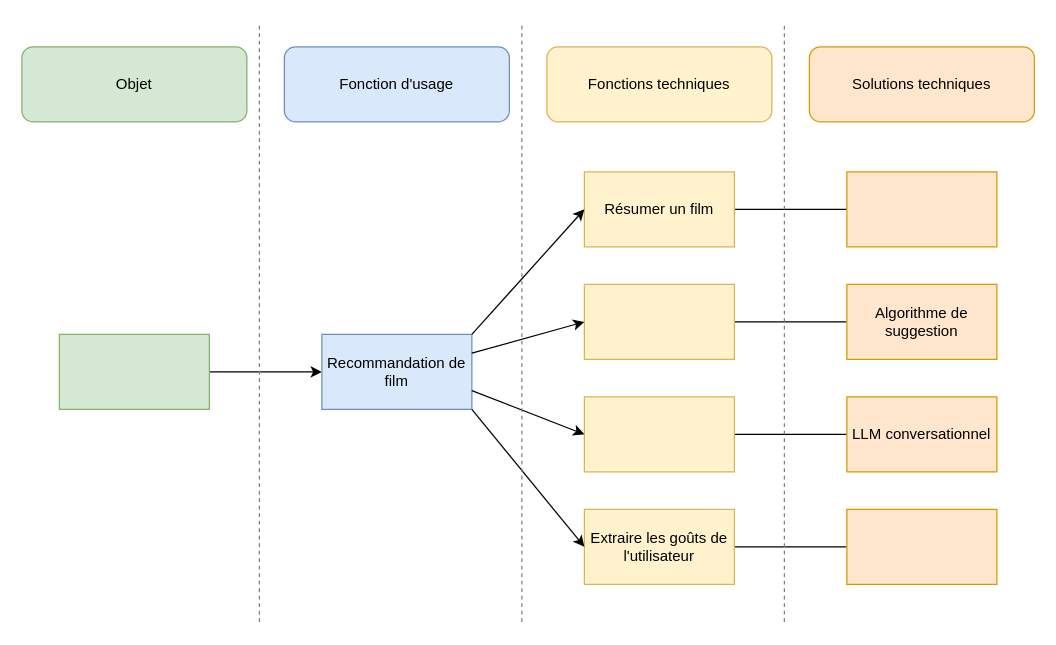
This 1056x645 diagram has some shape labels left out. Each missing label, with the centre of its shape:
"Chatbot" belongs at point (133, 371).
"LLM, prompt pour l'extraction d'informations" belongs at point (921, 546).
"LLM, prompt pour la synthèse de texte" belongs at point (921, 209).
"Suggérer un film à partir des goûts de l'utilisateur" belongs at point (658, 321).
"Tenir une conversation avec un humain" belongs at point (658, 434).
